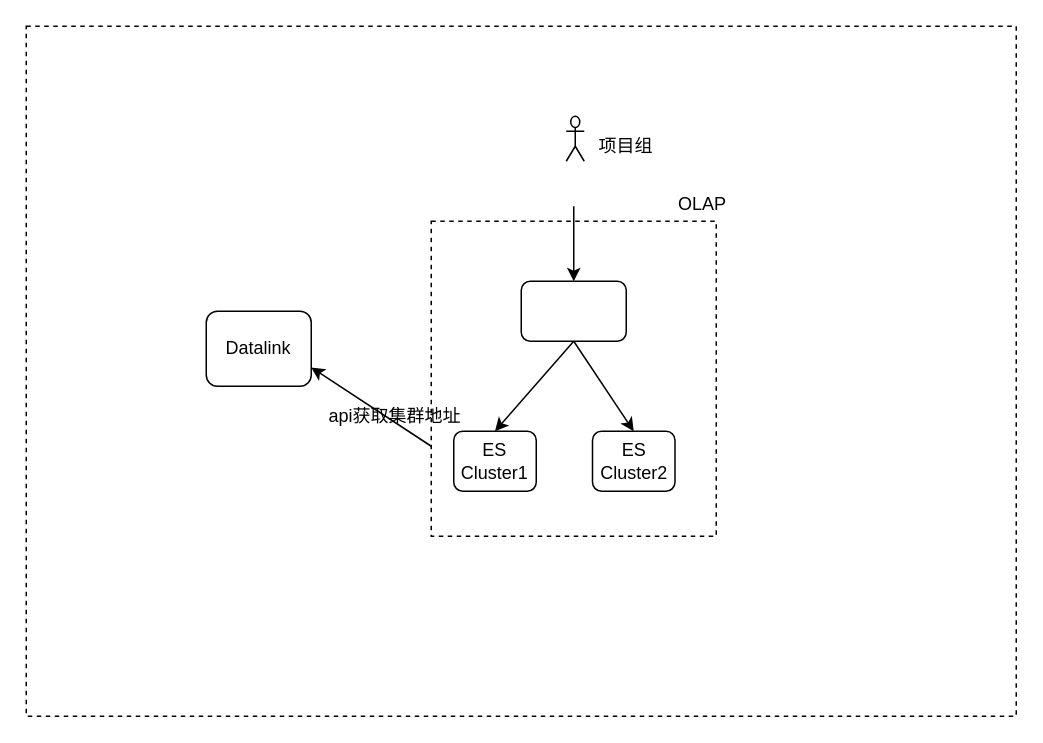
The diagram is 1043 pixels wide and 743 high, and some of its shapes have lost their labels. Each missing label, with the centre of its shape:
"Actor" goes at (x=574, y=138).
"DB" goes at (x=573, y=310).
